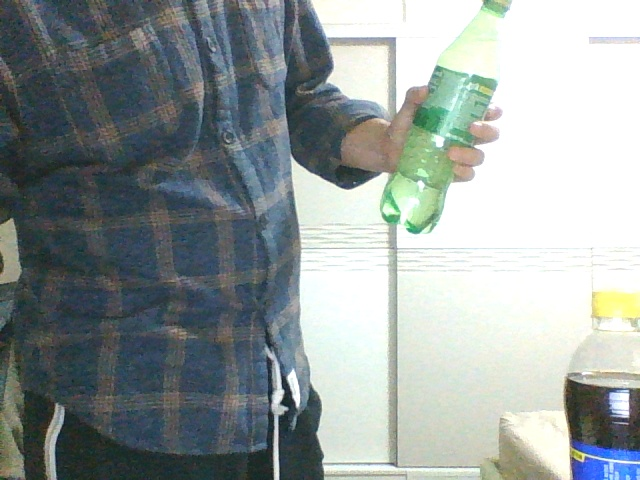Cola: (563, 287, 639, 478)
Sprite: (379, 1, 508, 235)
